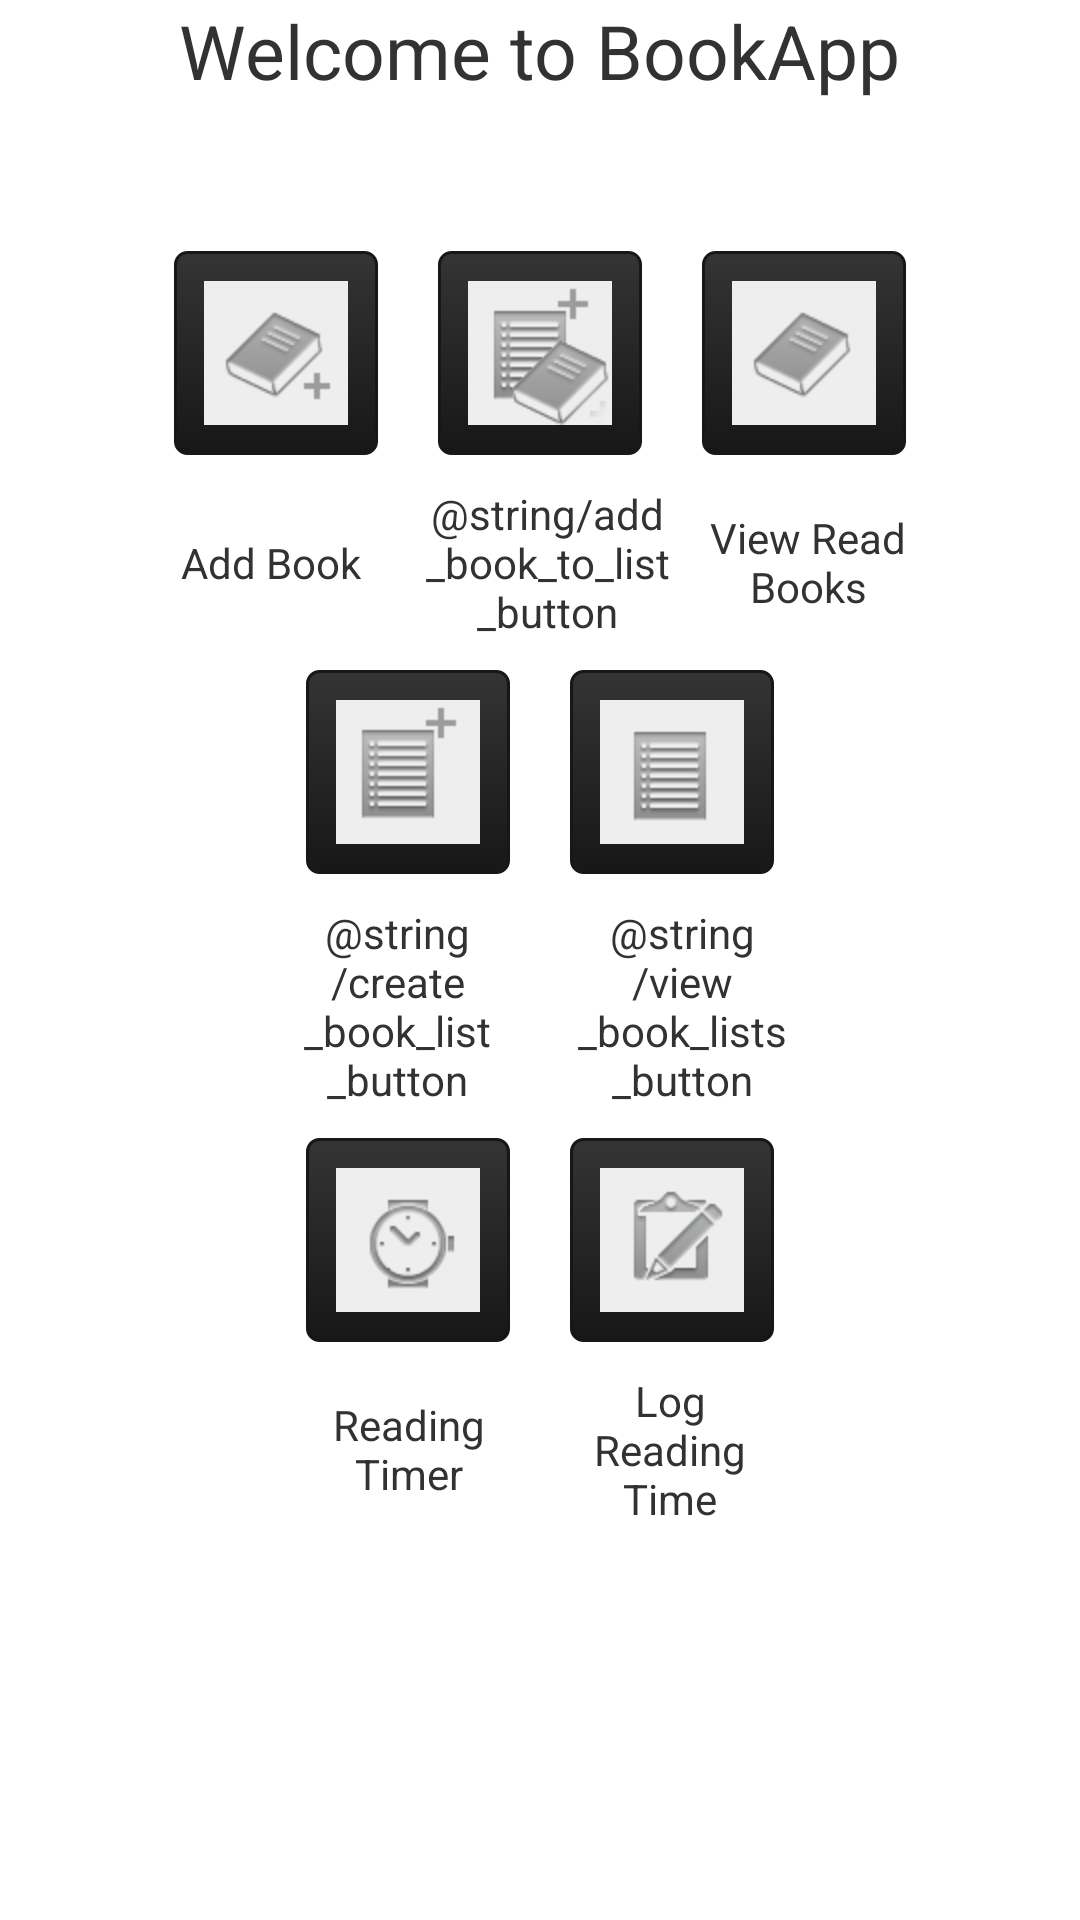

Icons on this 1080 × 1920 Android screen, each with the point to tap as point (x, y):
allbooksicon: point (804, 353)
timericon: point (408, 1240)
viewlisticon: point (672, 772)
